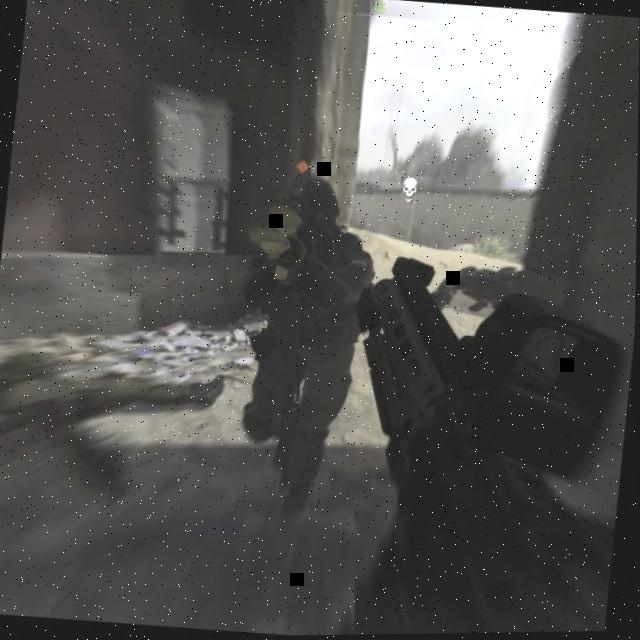MW2_body: (223, 158, 381, 527)
